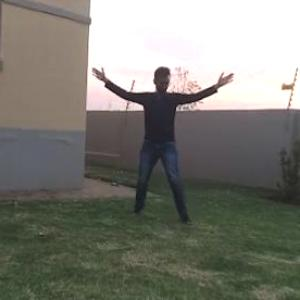takeoff: (104, 42, 256, 221)
